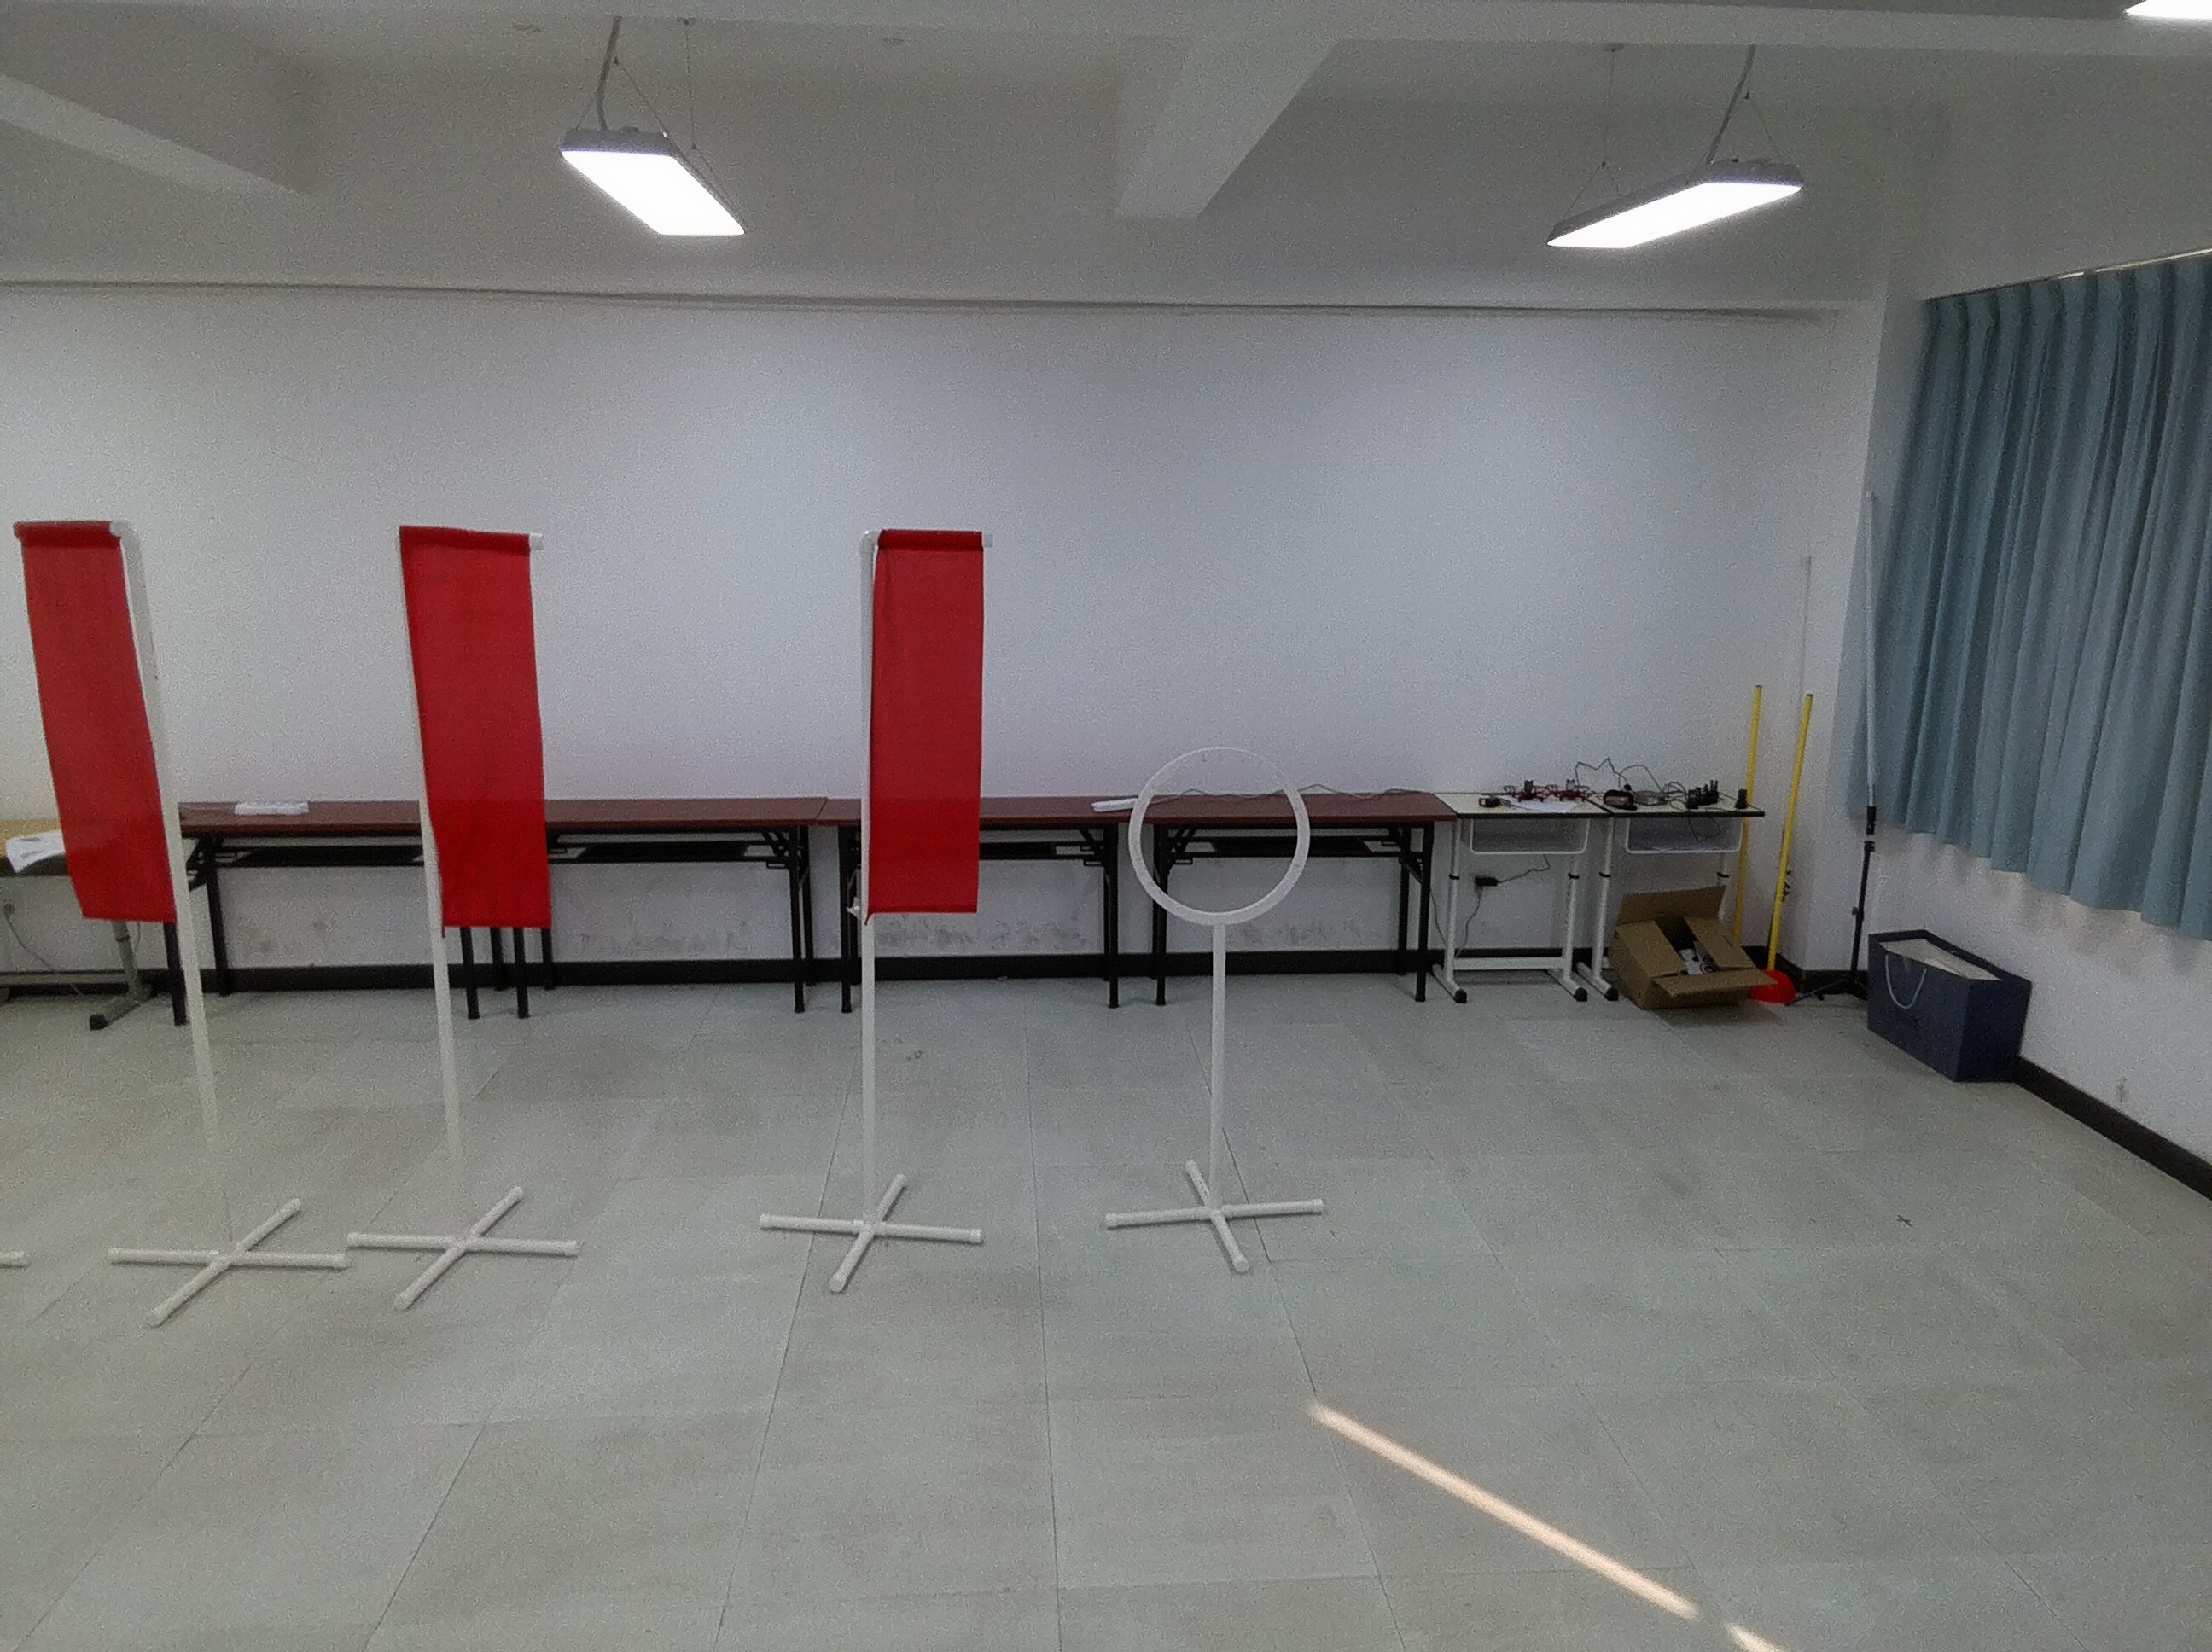qi: (9, 517, 201, 1005), (385, 517, 557, 960), (843, 517, 991, 965)
quan: (1117, 739, 1322, 932)
